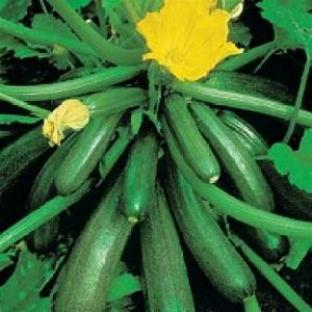Zucchini: (166, 164, 255, 302), (55, 181, 133, 311), (191, 102, 274, 211), (141, 186, 194, 311), (55, 114, 121, 194), (0, 66, 143, 100), (166, 94, 220, 183), (0, 126, 49, 197), (29, 137, 75, 211), (122, 129, 158, 222), (258, 161, 311, 219), (205, 71, 293, 102), (220, 111, 267, 157), (98, 128, 131, 185), (83, 88, 146, 115)
